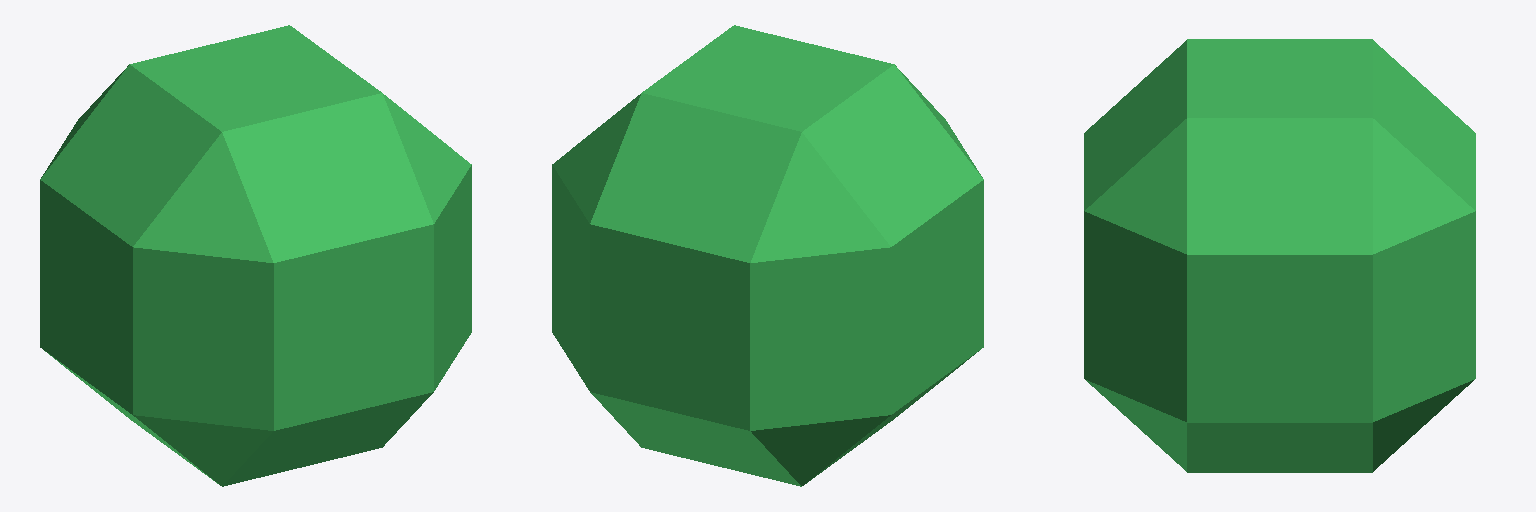
3 renders of one model, left to right at view 1: azimuth 30°, elevation 25°; view 2: azimuth 150°, elevation 25°; view 3: azimuth 270°, elevation 25°, orthographic.
Visible parts, largest first — view 1: 立方体_立方体.006; view 2: 立方体_立方体.006; view 3: 立方体_立方体.006.
Part boxes in pixels (x1,y1,x2,y2): 立方体_立方体.006: (40, 25, 471, 486); 立方体_立方体.006: (552, 25, 983, 486); 立方体_立方体.006: (1084, 39, 1475, 472).
Bounding box in the file's own units: 0.8901 × 0.8901 × 0.8901.
Materials: 1 (1 with a texture image).